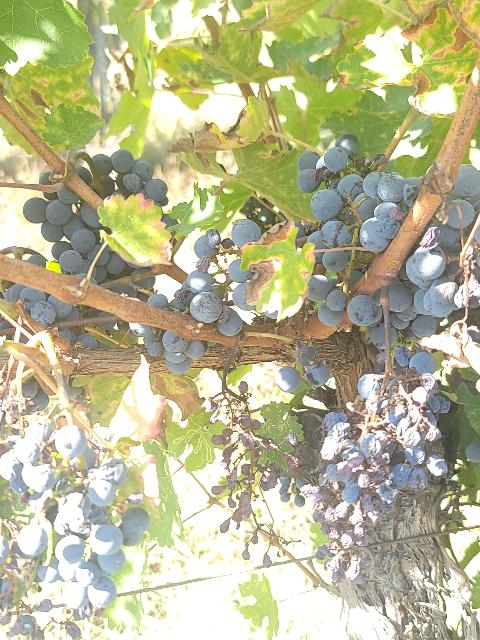grapes: (302, 346, 450, 582), (0, 425, 150, 611), (298, 135, 424, 350), (388, 164, 480, 346), (22, 186, 141, 282), (91, 150, 169, 209)
